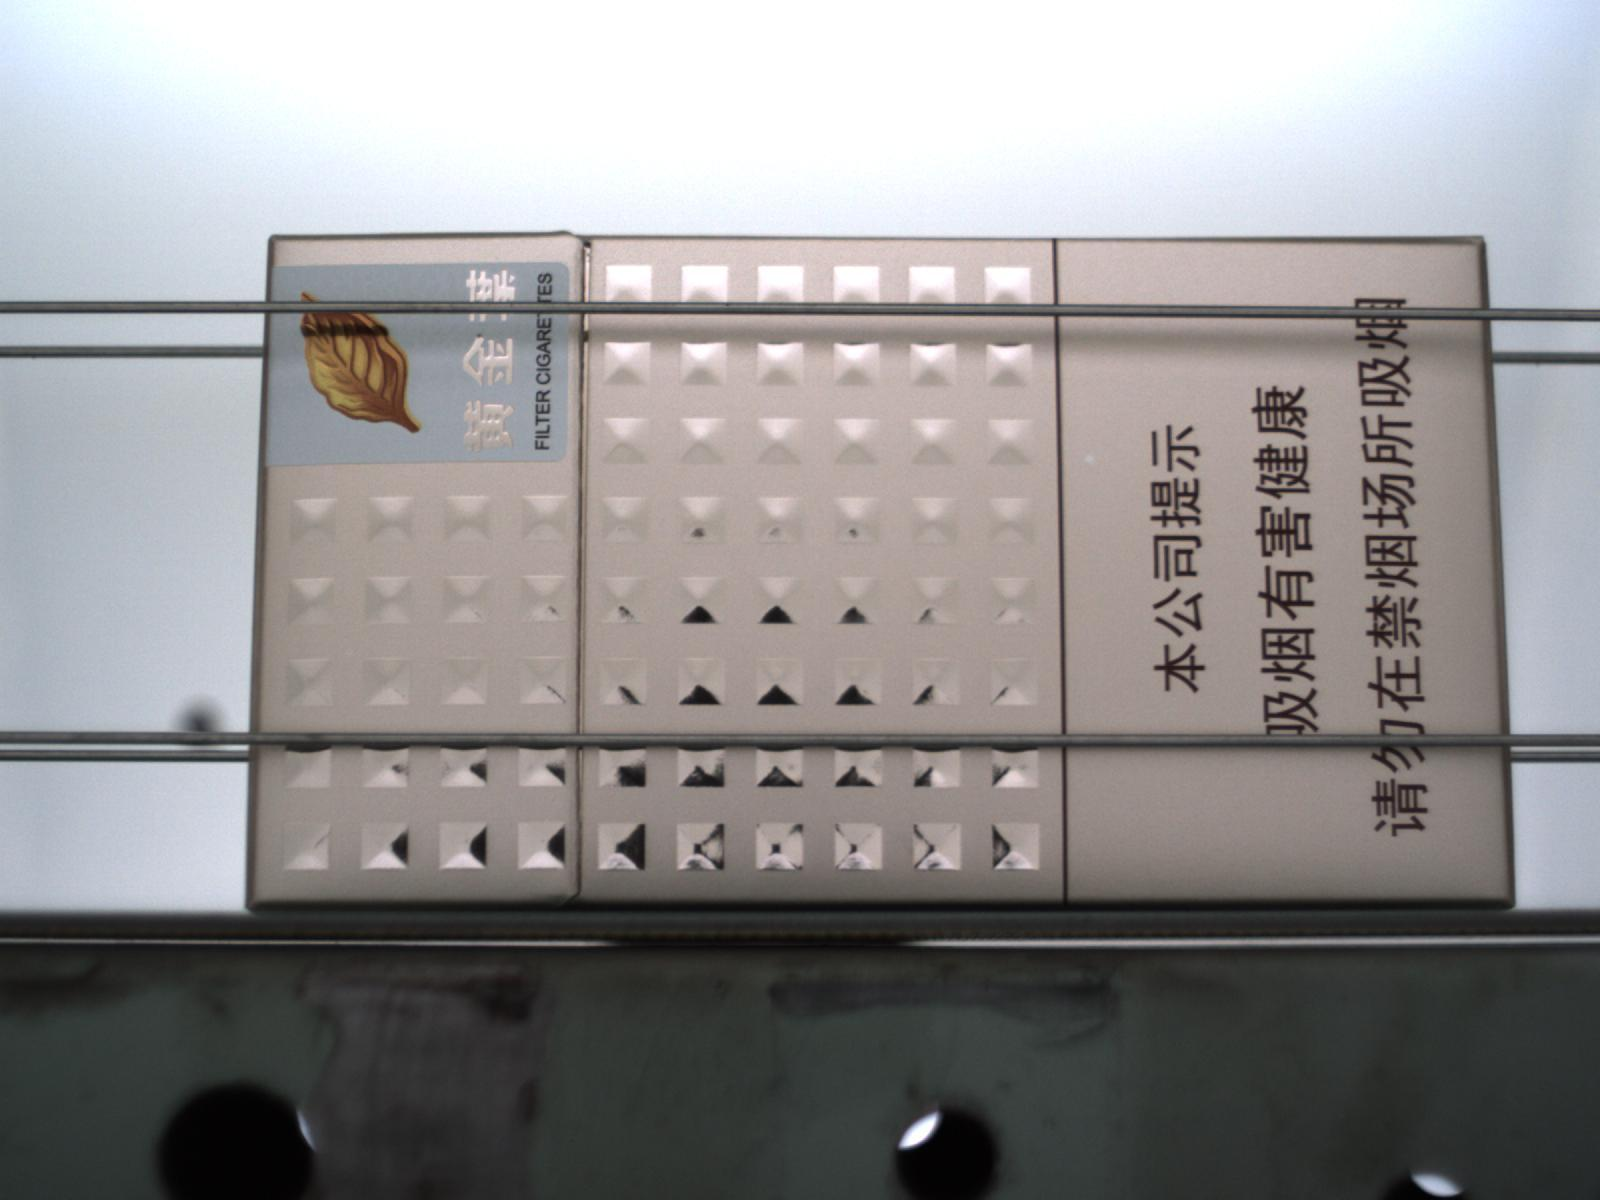dirtyPrint: (1083, 454, 1097, 466)
